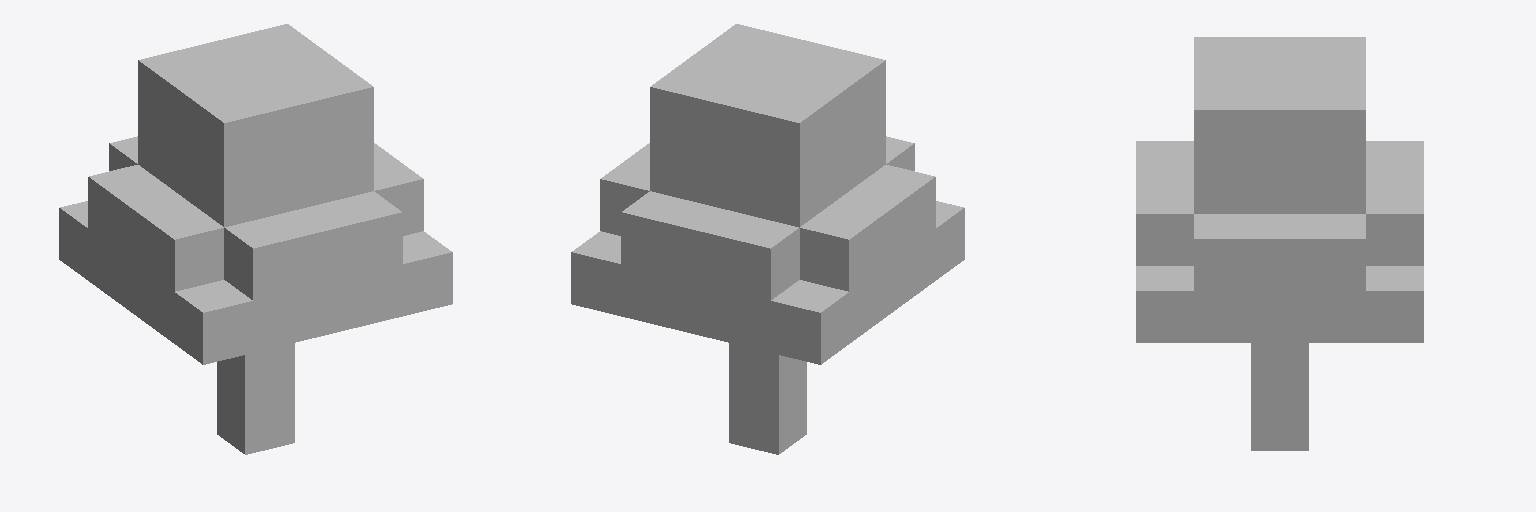
File: tree.obj
The picture shows the model from 3 angles: view 1: azimuth 30°, elevation 25°; view 2: azimuth 150°, elevation 25°; view 3: azimuth 270°, elevation 25°; orthographic projection.
Parts seen in each view (by area): view 1: cube.035, cube.065, cube.053, cube.061, cube.024, cube.001, cube.034, cube.031, cube.056, cube.055, cube.064, cube.002 (+21 smaller); view 2: cube.041, cube.066, cube.050, cube.059, cube.022, cube.001, cube.040, cube.037, cube.057, cube.067, cube.063, cube.002 (+21 smaller); view 3: cube.046, cube.063, cube.064, cube.031, cube.037, cube.058, cube.044, cube.047, cube.056, cube.057, cube.002, cube.001 (+16 smaller).
Part boxes in pixels (left/top/right/bottom): cube.035: left=224, top=216, right=302, bottom=300; cube.065: left=175, top=280, right=252, bottom=364; cube.053: left=146, top=207, right=223, bottom=291; cube.061: left=196, top=90, right=273, bottom=174; cube.024: left=196, top=155, right=273, bottom=227; cube.001: left=217, top=383, right=294, bottom=454; cube.034: left=274, top=203, right=352, bottom=288; cube.031: left=324, top=191, right=402, bottom=275; cube.056: left=296, top=66, right=373, bottom=150; cube.055: left=246, top=78, right=323, bottom=162; cube.064: left=403, top=231, right=452, bottom=315; cube.002: left=217, top=343, right=294, bottom=402; cube.041: left=721, top=216, right=799, bottom=300; cube.066: left=771, top=280, right=848, bottom=364; cube.050: left=800, top=207, right=877, bottom=291; cube.059: left=750, top=90, right=827, bottom=174; cube.022: left=750, top=155, right=827, bottom=227; cube.001: left=729, top=383, right=806, bottom=454; cube.040: left=671, top=203, right=749, bottom=288; cube.037: left=621, top=191, right=699, bottom=275; cube.057: left=650, top=66, right=727, bottom=150; cube.067: left=700, top=78, right=777, bottom=162; cube.063: left=571, top=231, right=620, bottom=315; cube.002: left=729, top=343, right=806, bottom=402; cube.046: left=1251, top=214, right=1308, bottom=290; cube.063: left=1366, top=266, right=1423, bottom=342; cube.064: left=1136, top=266, right=1193, bottom=342; cube.031: left=1136, top=190, right=1193, bottom=265; cube.037: left=1366, top=190, right=1423, bottom=265; cube.058: left=1251, top=86, right=1308, bottom=161; cube.044: left=1309, top=214, right=1365, bottom=290; cube.047: left=1194, top=214, right=1250, bottom=290; cube.056: left=1194, top=86, right=1250, bottom=161; cube.057: left=1309, top=86, right=1365, bottom=161; cube.002: left=1251, top=346, right=1308, bottom=398; cube.001: left=1251, top=399, right=1308, bottom=450.
Bounding box in the file's own units: 0.625 × 0.875 × 0.625.